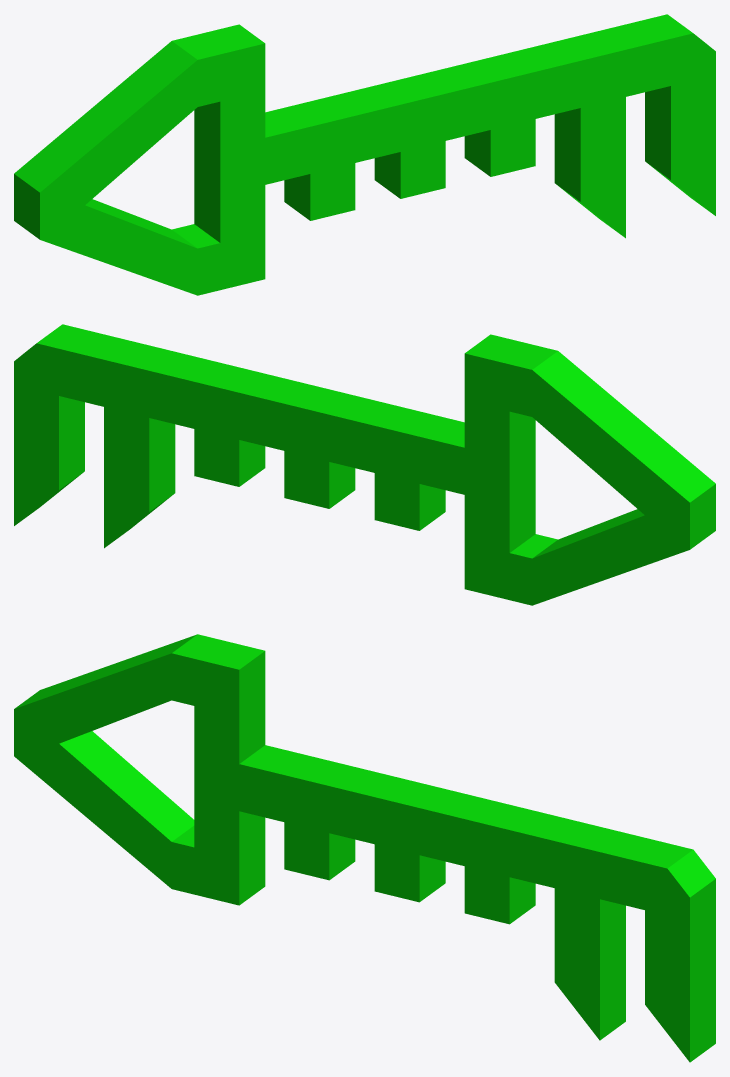
Rendered from Items.fbx_Key_9.fbx.
3 views of the same model, one above another, from view 1: azimuth 30°, elevation 25°; view 2: azimuth 150°, elevation 25°; view 3: azimuth 330°, elevation 25° (orthographic).
Visible parts, largest first — view 1: Key 9; view 2: Key 9; view 3: Key 9.
Part boxes in pixels (<box>): Key 9: <box>14,14,715,295</box>; Key 9: <box>14,324,715,605</box>; Key 9: <box>14,634,715,1062</box>.
Bounding box in the file's own units: 0.3 × 0.12 × 0.02.
